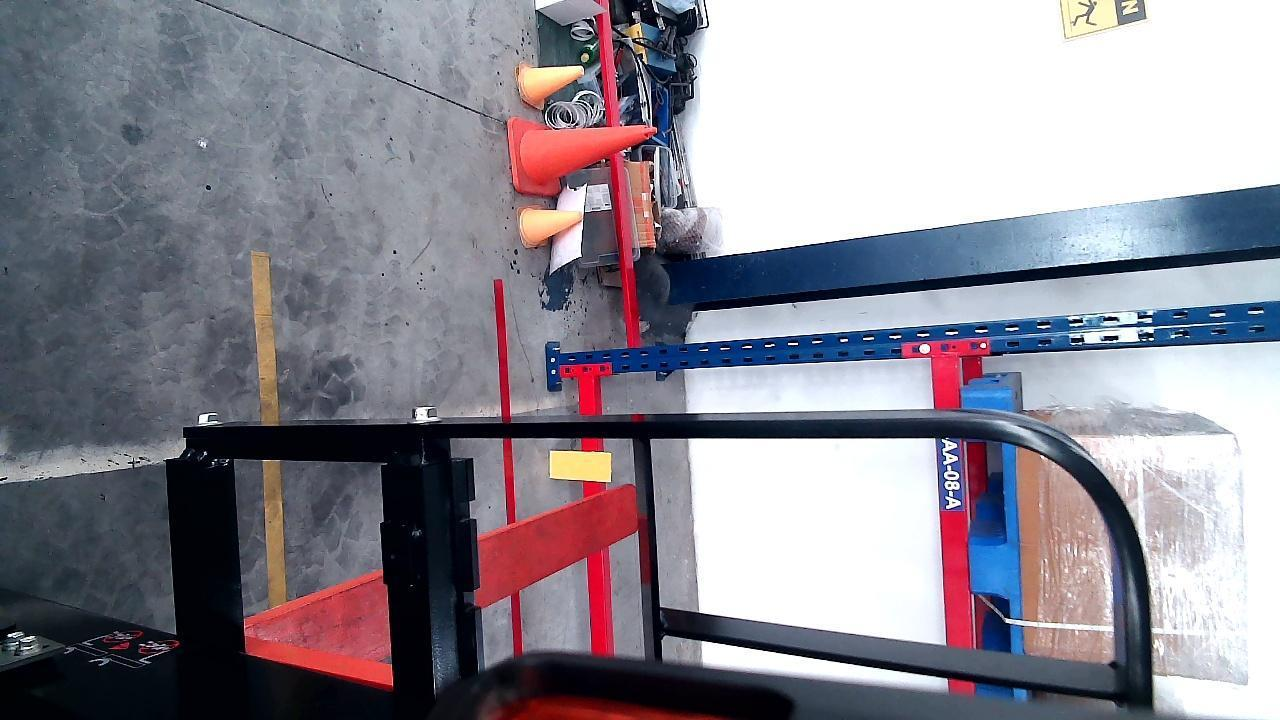h_rack: (935, 376, 973, 648), (578, 378, 615, 654)
orange_strip: (549, 447, 611, 481)
red_line: (491, 277, 526, 649)
small_pallet: (969, 407, 1023, 653)
yellow_line: (252, 242, 283, 601)
